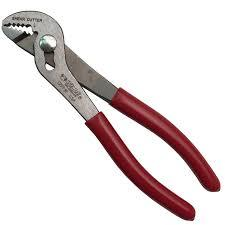pliers: (0, 9, 220, 224)
